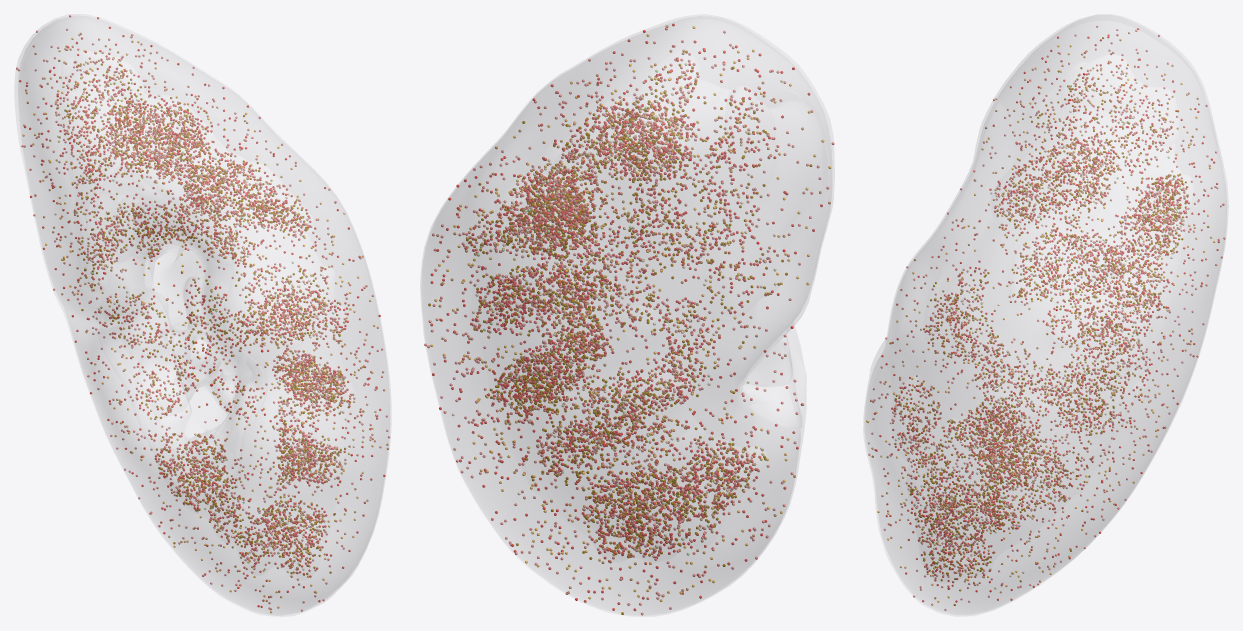
File: 3d-vh-f-kidney-l-UBERON_0004538-all-as-pan-human-azimuth-sphere-hra-pop.glb
3 renders of one model, left to right at view 1: azimuth 30°, elevation 25°; view 2: azimuth 150°, elevation 25°; view 3: azimuth 270°, elevation 25°, orthographic. The views are drawn at different scales.
Parts seen in each view (by area): view 1: VH_F_kidney_capsule_L, VH_F_outer_cortex_of_kidney_L, VH_F_hilum_of_kidney_L, VH_F_renal_column_L, VH_F_renal_pyramid_L_g; view 2: VH_F_kidney_capsule_L, VH_F_outer_cortex_of_kidney_L, VH_F_hilum_of_kidney_L; view 3: VH_F_kidney_capsule_L, VH_F_outer_cortex_of_kidney_L.
Part boxes in pixels (bbox=[...]): VH_F_kidney_capsule_L: bbox=[15, 14, 390, 616]; VH_F_outer_cortex_of_kidney_L: bbox=[19, 19, 389, 615]; VH_F_hilum_of_kidney_L: bbox=[94, 169, 266, 490]; VH_F_renal_column_L: bbox=[147, 246, 229, 413]; VH_F_renal_pyramid_L_g: bbox=[158, 276, 232, 412]; VH_F_kidney_capsule_L: bbox=[420, 14, 834, 616]; VH_F_outer_cortex_of_kidney_L: bbox=[422, 19, 831, 615]; VH_F_hilum_of_kidney_L: bbox=[738, 337, 801, 428]; VH_F_kidney_capsule_L: bbox=[863, 14, 1228, 616]; VH_F_outer_cortex_of_kidney_L: bbox=[865, 21, 1226, 614].
Size of the model in its own units: 0.0731 by 0.1249 by 0.0776.
